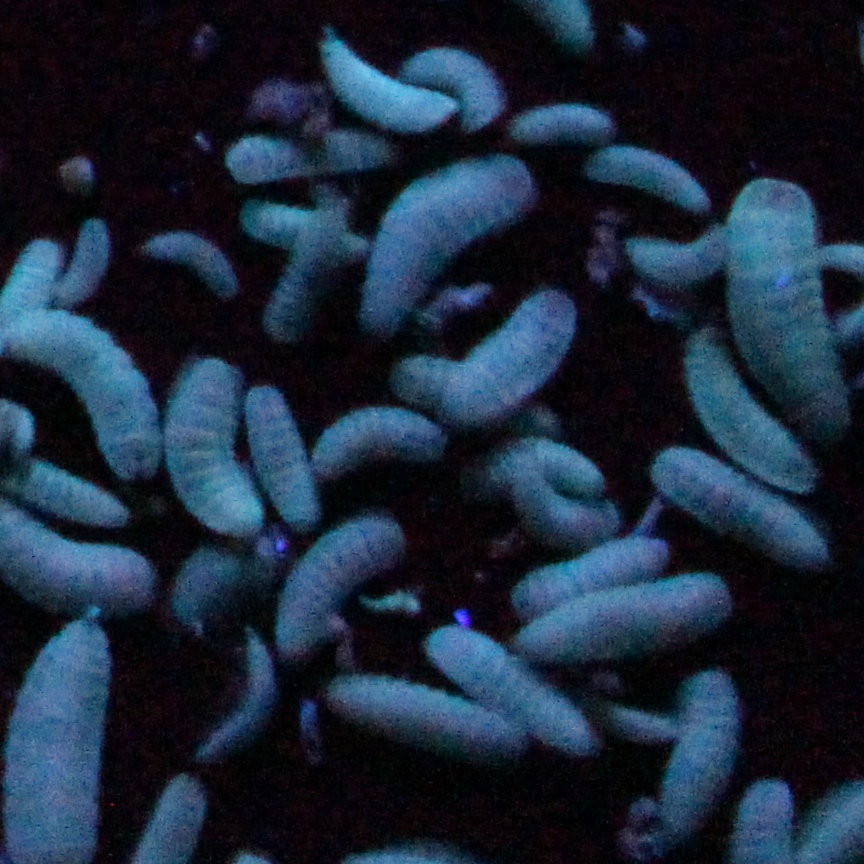larve: (358, 158, 534, 332), (4, 313, 166, 489), (656, 452, 851, 576), (674, 334, 822, 487), (426, 624, 603, 745), (160, 352, 263, 542), (323, 682, 535, 763), (511, 576, 734, 652), (282, 516, 403, 653), (443, 295, 572, 416), (654, 668, 749, 832), (268, 187, 355, 339), (315, 39, 456, 126), (195, 628, 276, 755), (320, 402, 444, 480), (584, 145, 714, 214), (253, 385, 316, 526), (9, 468, 132, 530), (147, 232, 237, 301), (507, 97, 620, 143), (56, 221, 106, 306)
